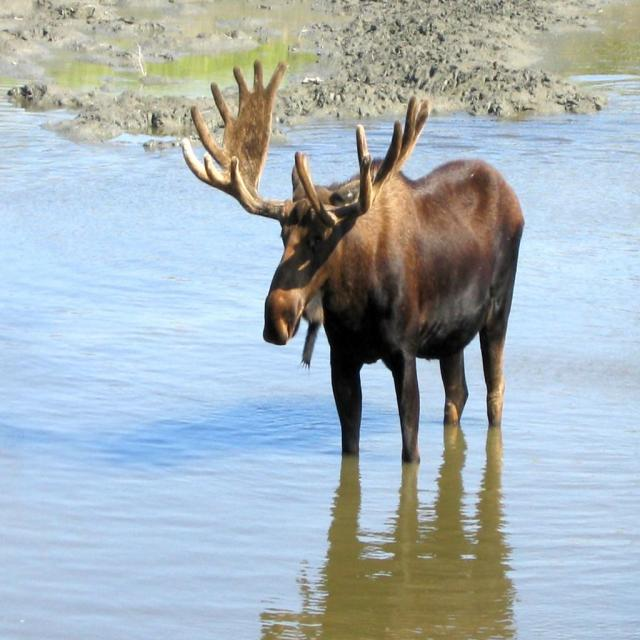Deer: (180, 57, 525, 466)
